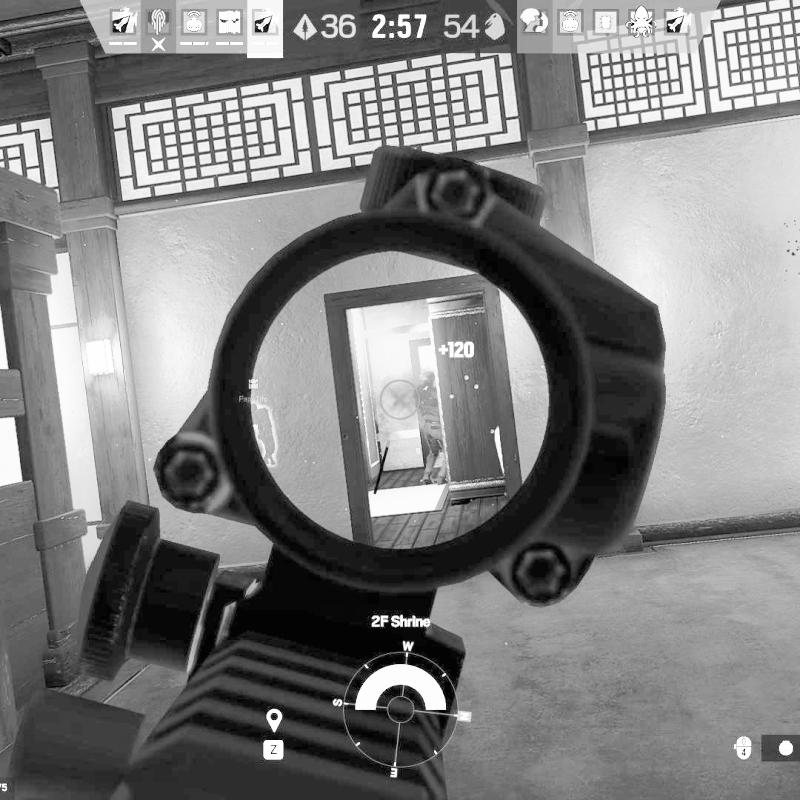Character: (414, 370, 449, 486)
Friend_label: (237, 377, 269, 404)
Head: (419, 371, 437, 388)
